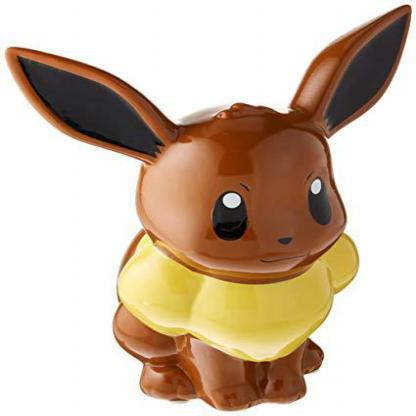Eevee: (1, 52, 416, 411)
